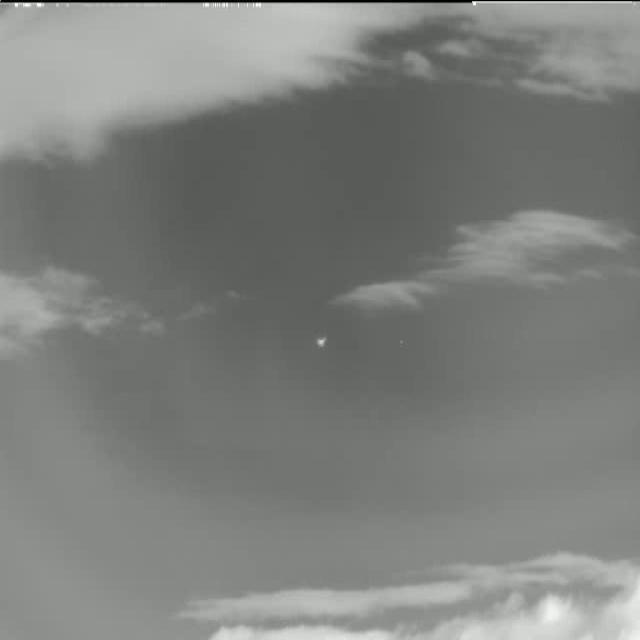drone: (317, 334, 326, 350)
